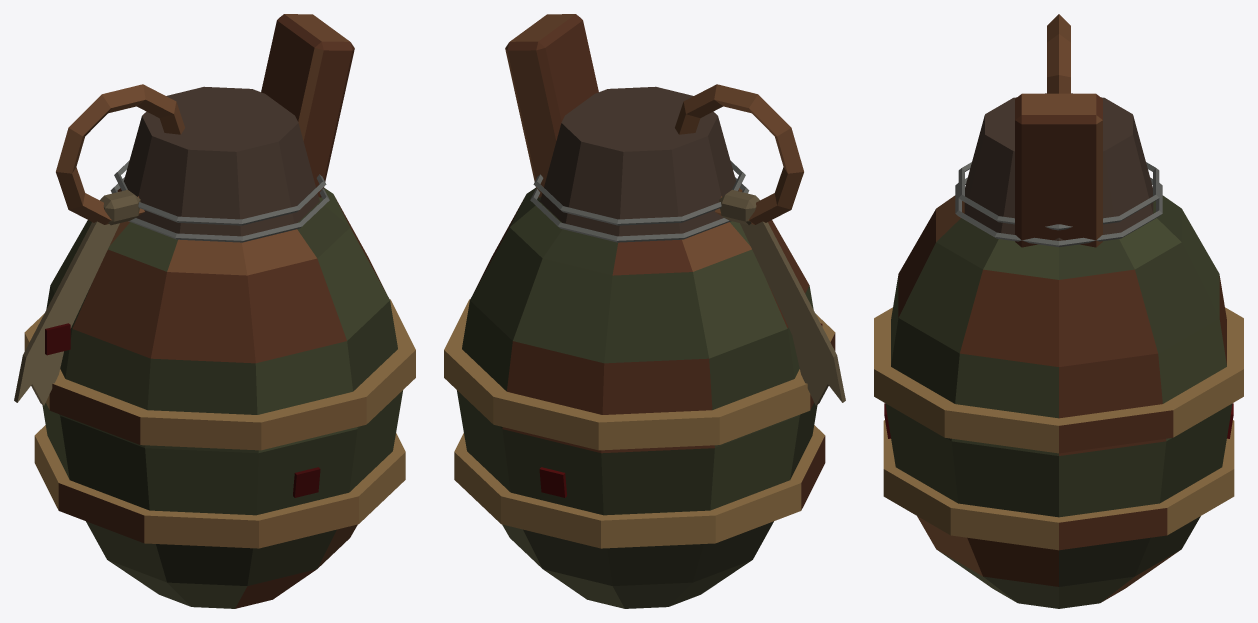
File: grenade.glb
3 renders of one model, left to right at view 1: azimuth 30°, elevation 25°; view 2: azimuth 150°, elevation 25°; view 3: azimuth 270°, elevation 25°, orthographic.
Parts seen in each view (by area): view 1: FrissonPickup_Grenade_Full_Body; view 2: FrissonPickup_Grenade_Full_Body; view 3: FrissonPickup_Grenade_Full_Body.
Part boxes in pixels (bbox=[...]): FrissonPickup_Grenade_Full_Body: bbox=[14, 14, 415, 608]; FrissonPickup_Grenade_Full_Body: bbox=[444, 14, 845, 608]; FrissonPickup_Grenade_Full_Body: bbox=[874, 14, 1243, 608].
Bounding box in the file's own units: 0.1265 × 0.1768 × 0.1094.
